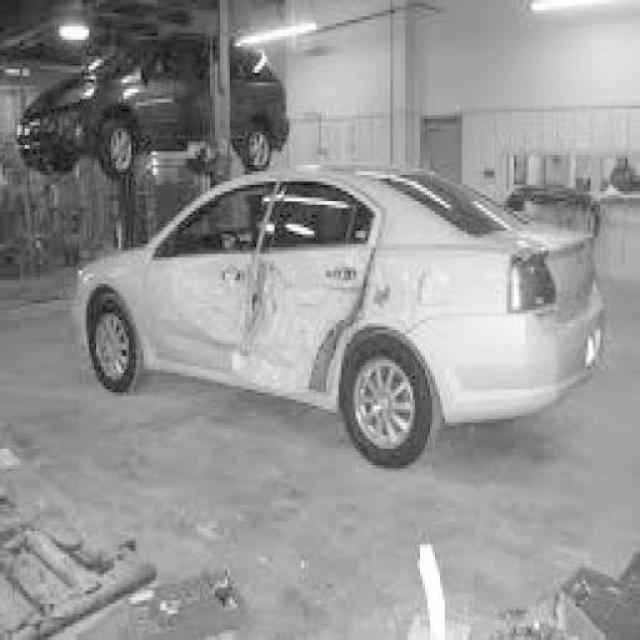car damage: (167, 246, 459, 399)
